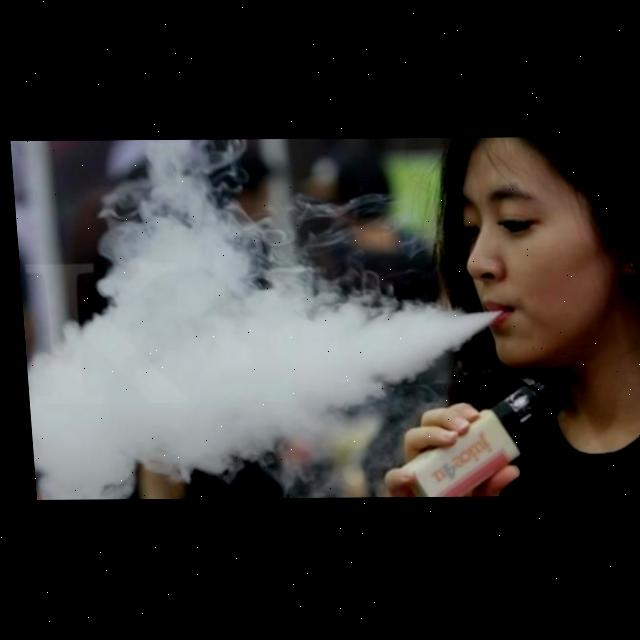vape: (390, 375, 547, 497)
